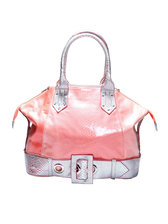bag: (12, 25, 161, 189)
